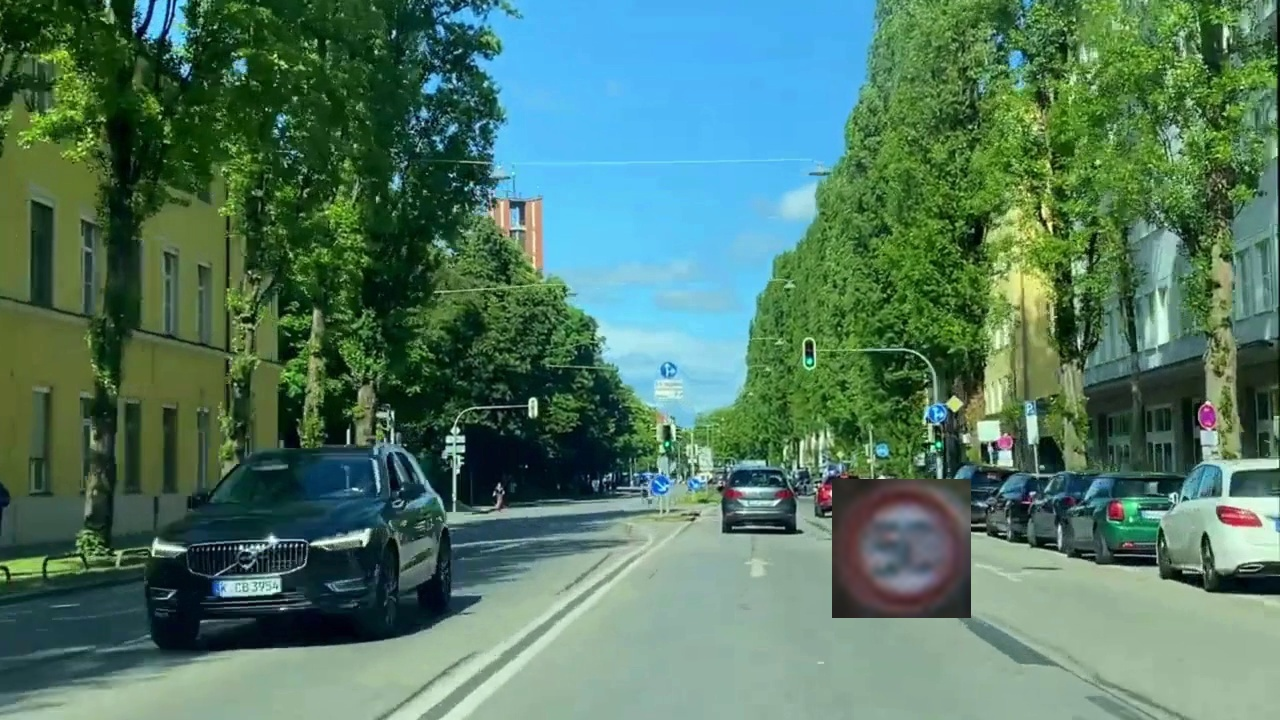Speed 50: (832, 479, 971, 618)
